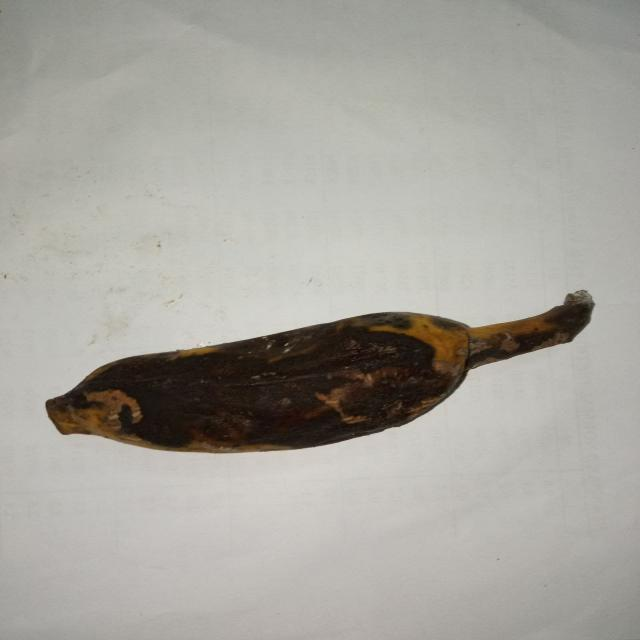rotten_banana: (43, 290, 590, 452)
